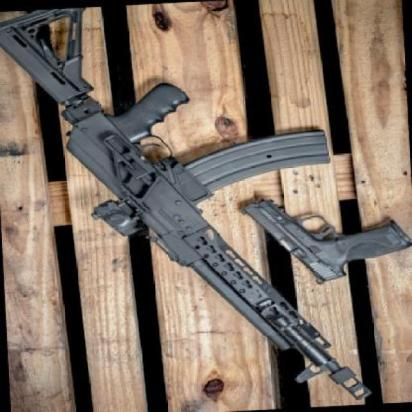Gun: (226, 176, 412, 294)
